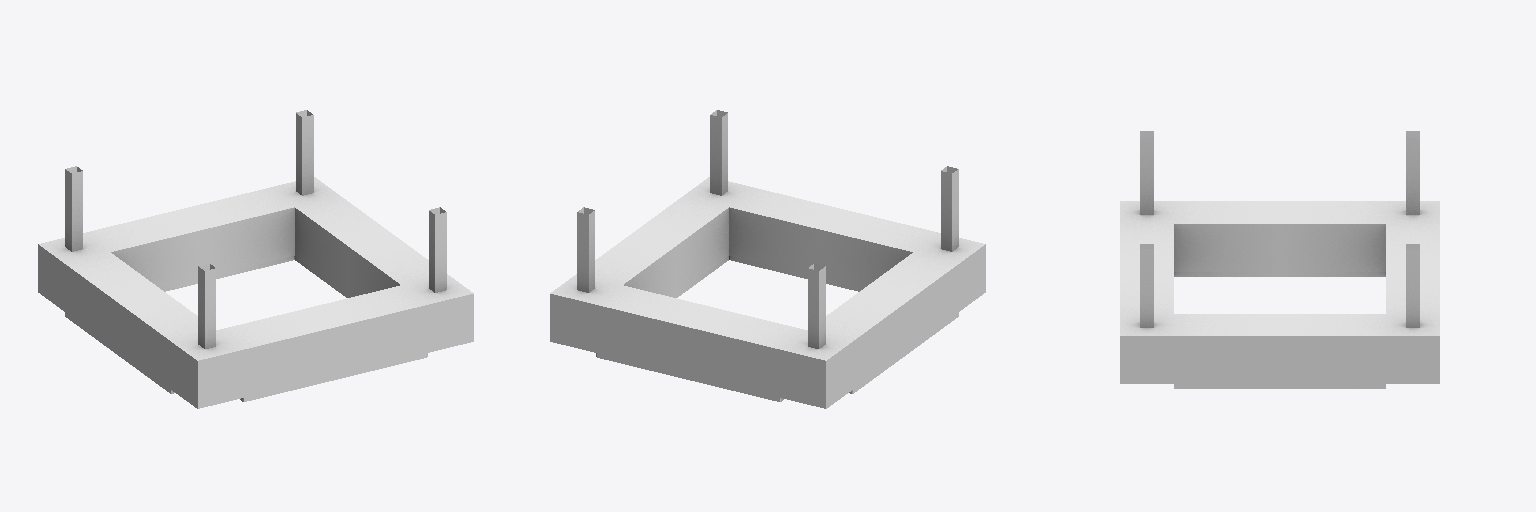
3 views of the same model, side by side, from view 1: azimuth 30°, elevation 25°; view 2: azimuth 150°, elevation 25°; view 3: azimuth 270°, elevation 25° (orthographic).
Visible parts, largest first — view 1: Briefing_Room_Light_LP_Frame, Briefing_Room_Light_LP_Panel; view 2: Briefing_Room_Light_LP_Frame, Briefing_Room_Light_LP_Panel; view 3: Briefing_Room_Light_LP_Frame, Briefing_Room_Light_LP_Panel.
Boxes of the visible parts, box(x1,y1,x2,y2) form: Briefing_Room_Light_LP_Frame: box(38, 110, 473, 408); Briefing_Room_Light_LP_Panel: box(65, 256, 427, 401); Briefing_Room_Light_LP_Frame: box(550, 110, 985, 408); Briefing_Room_Light_LP_Panel: box(596, 256, 958, 401); Briefing_Room_Light_LP_Frame: box(1120, 131, 1439, 383); Briefing_Room_Light_LP_Panel: box(1174, 272, 1385, 388).
Bounding box in the file's own units: 29.26 × 13.26 × 29.26.
Materials: 2 (2 with a texture image).